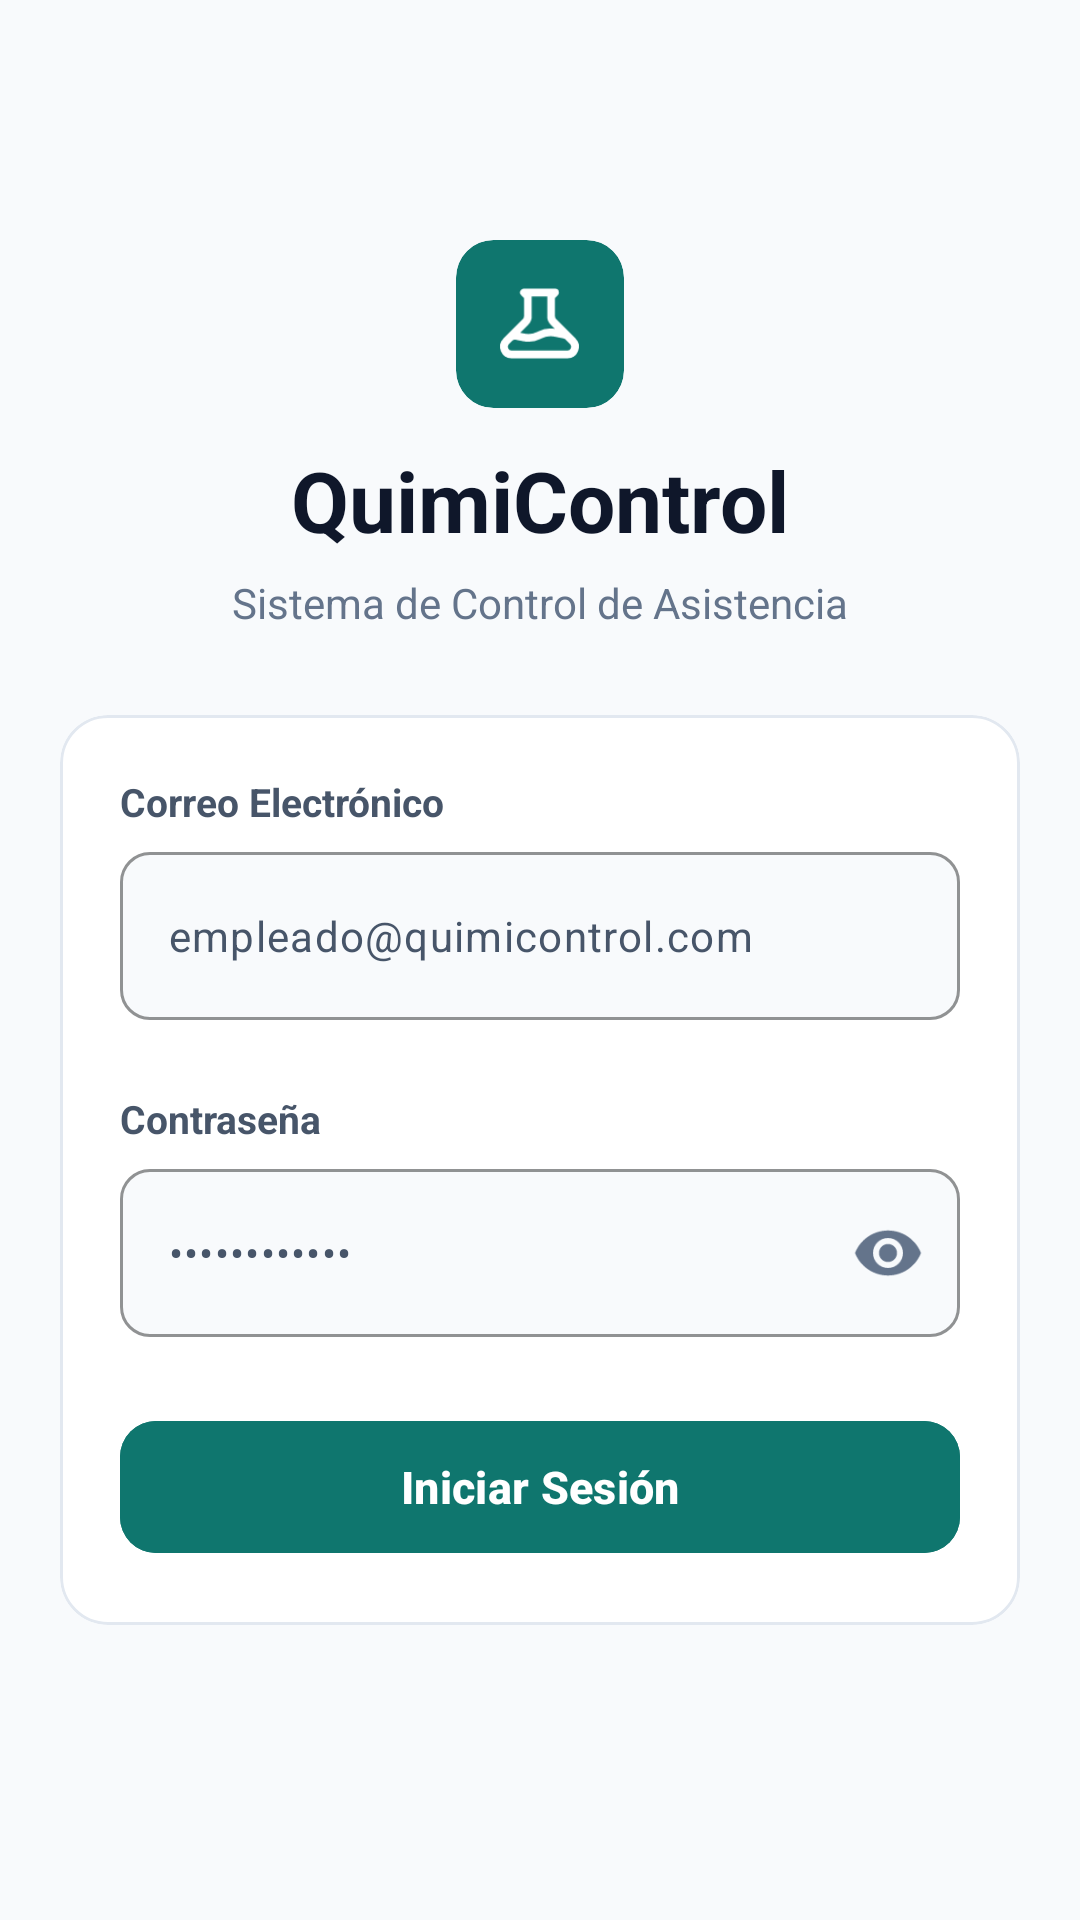

Point at icon controls on the screen. Image size 1080px×1920px, points as (x,y).
quimi flask: (539,323)
